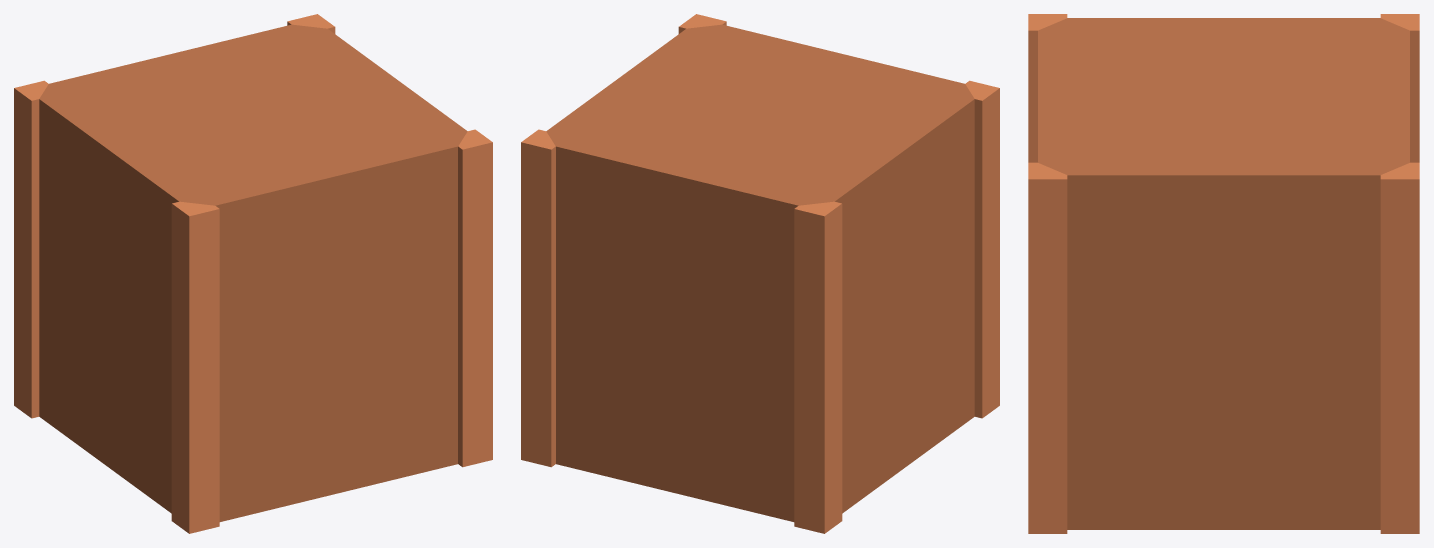
The model's file is wallWoodBlock.obj.
3 renders of one model, left to right at view 1: azimuth 30°, elevation 25°; view 2: azimuth 150°, elevation 25°; view 3: azimuth 270°, elevation 25°, orthographic. The views are drawn at different scales.
Visible parts, largest first — view 1: wallWoodBlock; view 2: wallWoodBlock; view 3: wallWoodBlock.
Boxes of the visible parts, x1,y1,x2,y2 form: wallWoodBlock: [14, 14, 492, 533]; wallWoodBlock: [521, 14, 999, 533]; wallWoodBlock: [1028, 14, 1419, 533].
Bounding box in the file's own units: 1 × 1 × 1.
